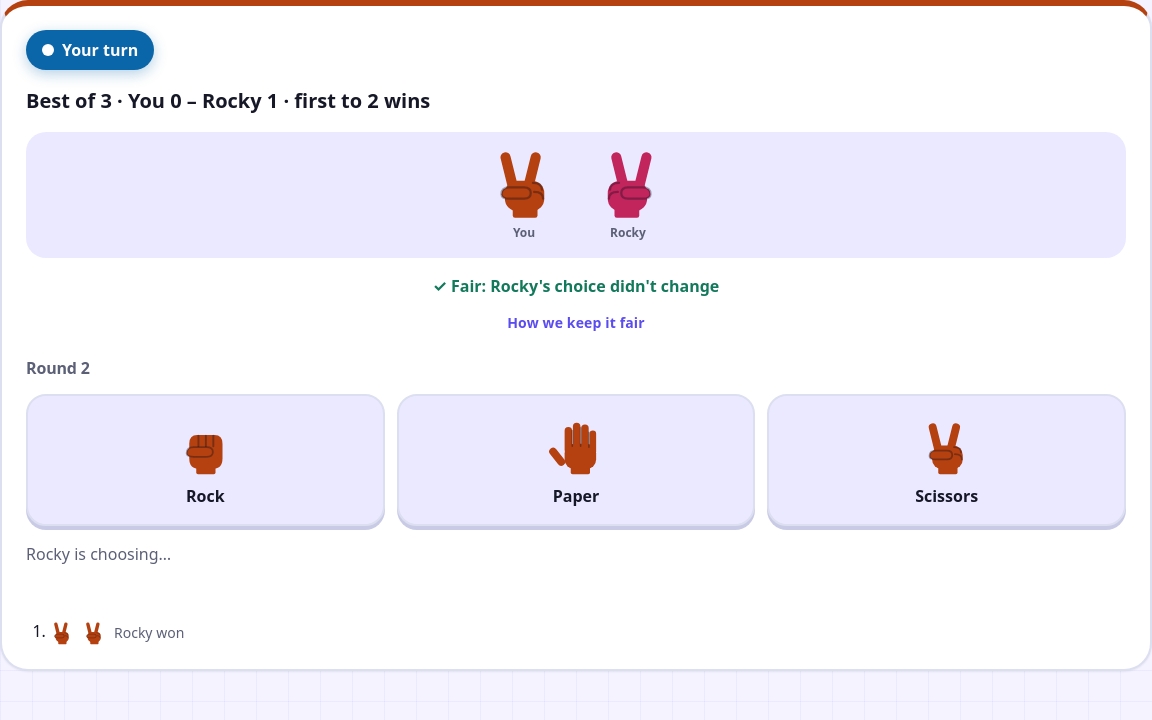
Test: RpsBoard against a computer character › reaches the proof by keyboard and opens it, with each part named in words and the SHA-256 line
Click the button "How we keep it fair".
click(576, 322)  # box [489, 302, 663, 343]
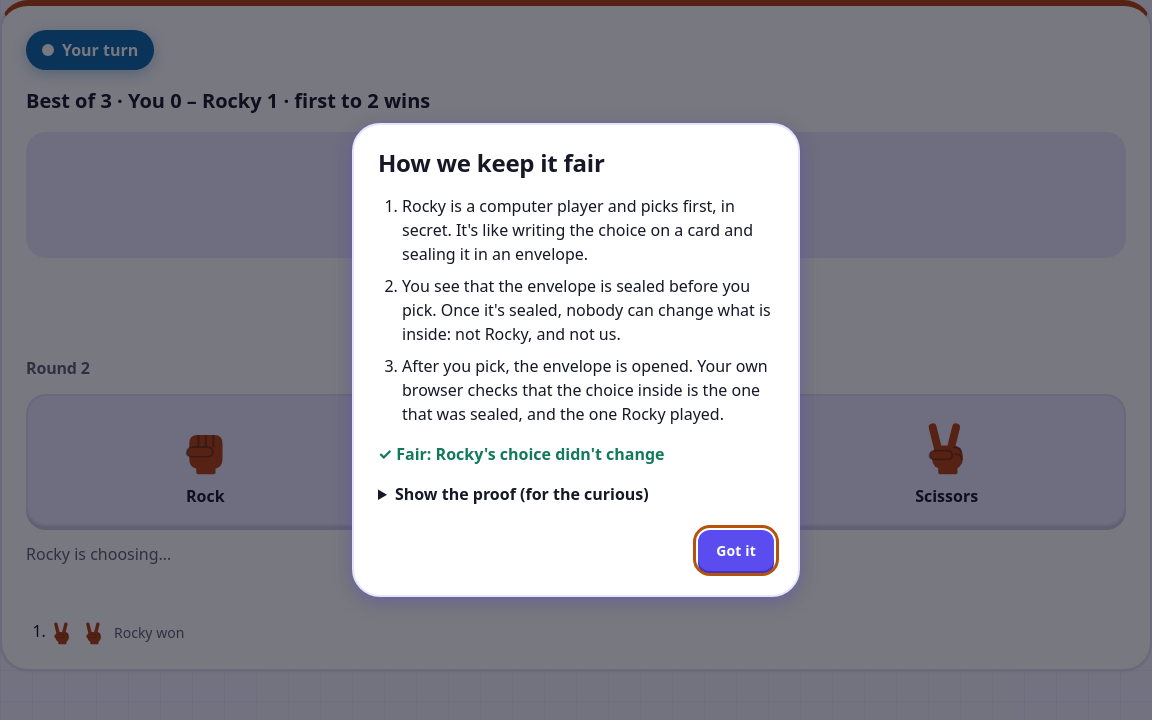
Press Shift+Tab
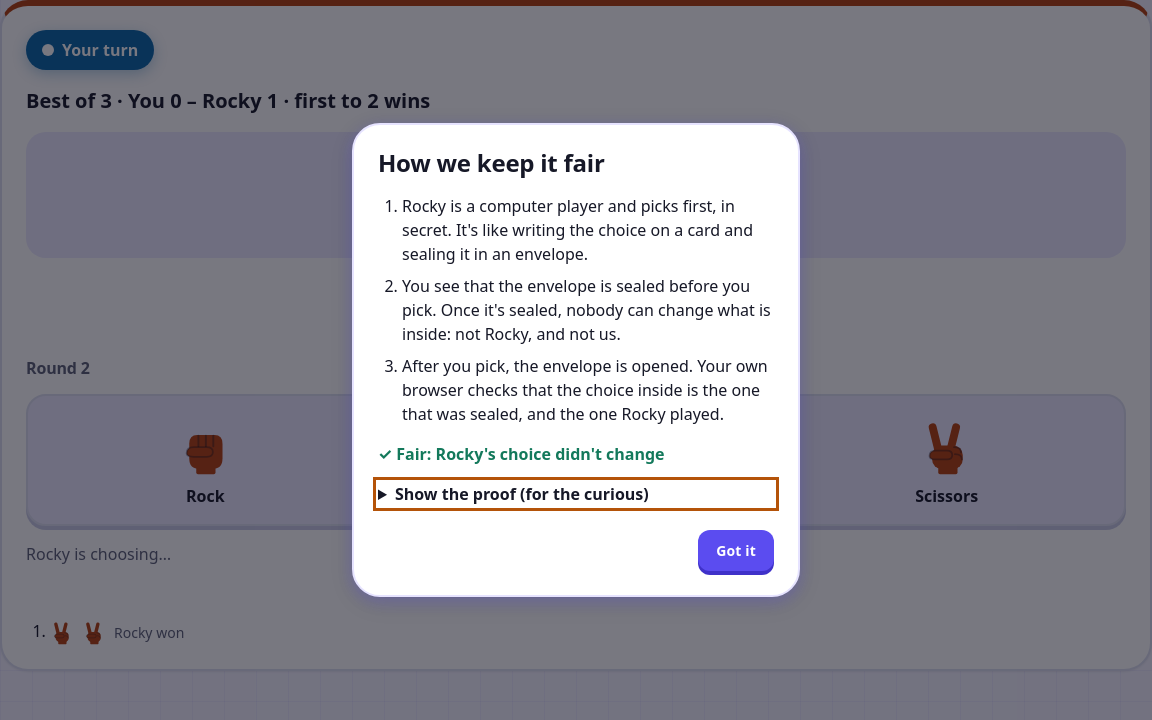
Click the heading "Show the proof (for the curious)".
click(522, 494)  # box [395, 483, 649, 505]
(page scrolled)
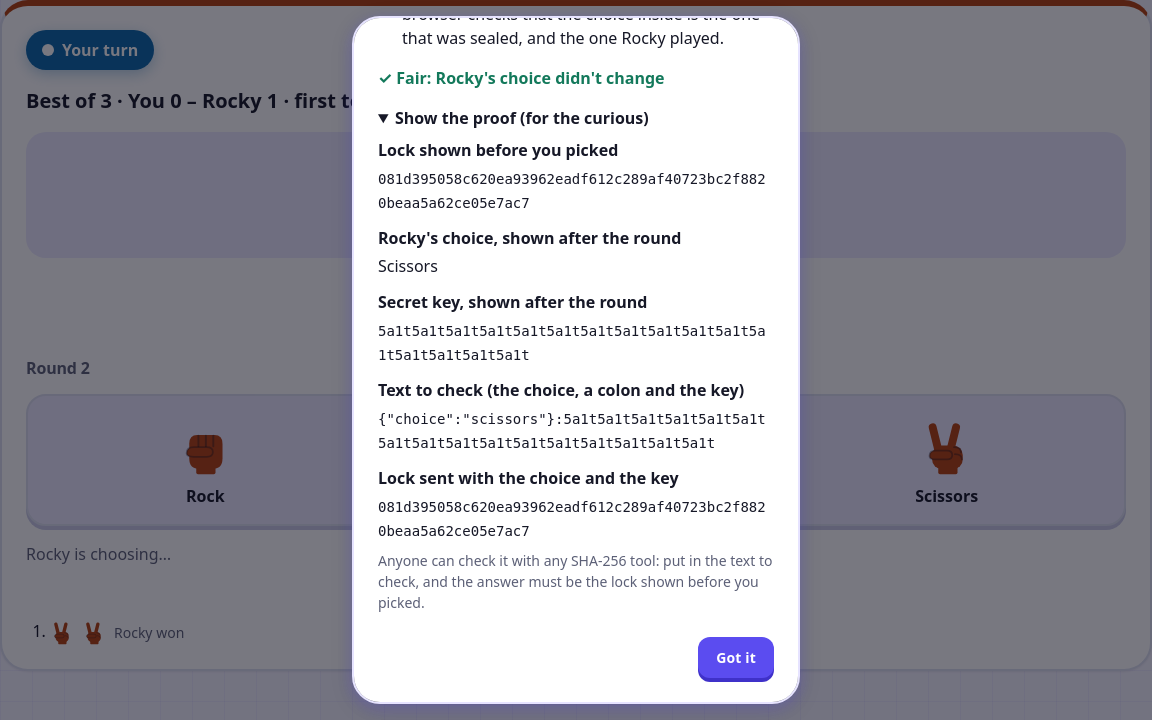
Expected: the text "Scissors" is shown, [378, 255, 438, 277]
Expected: the text "Show the proof (for the curious)" shows "Anyone can check it with any SHA-256 tool", [378, 551, 772, 612]
Click the button "Got it".
click(736, 657)  # box [698, 637, 774, 678]
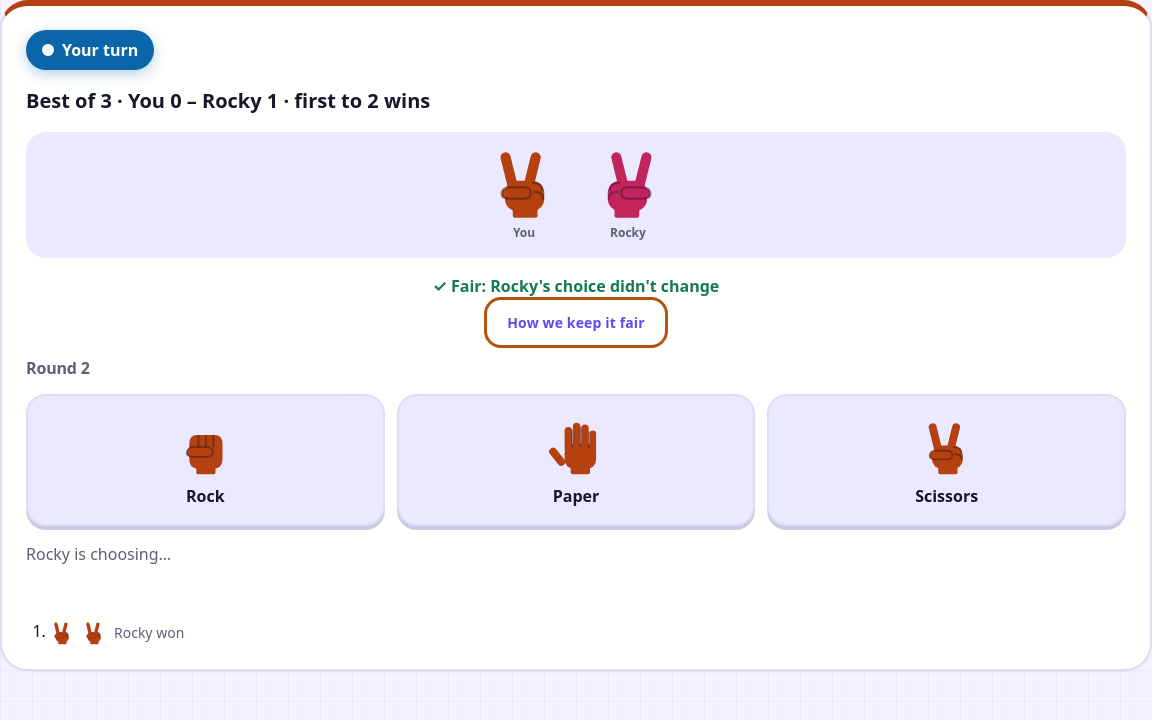
Expected: the dialog is gone
